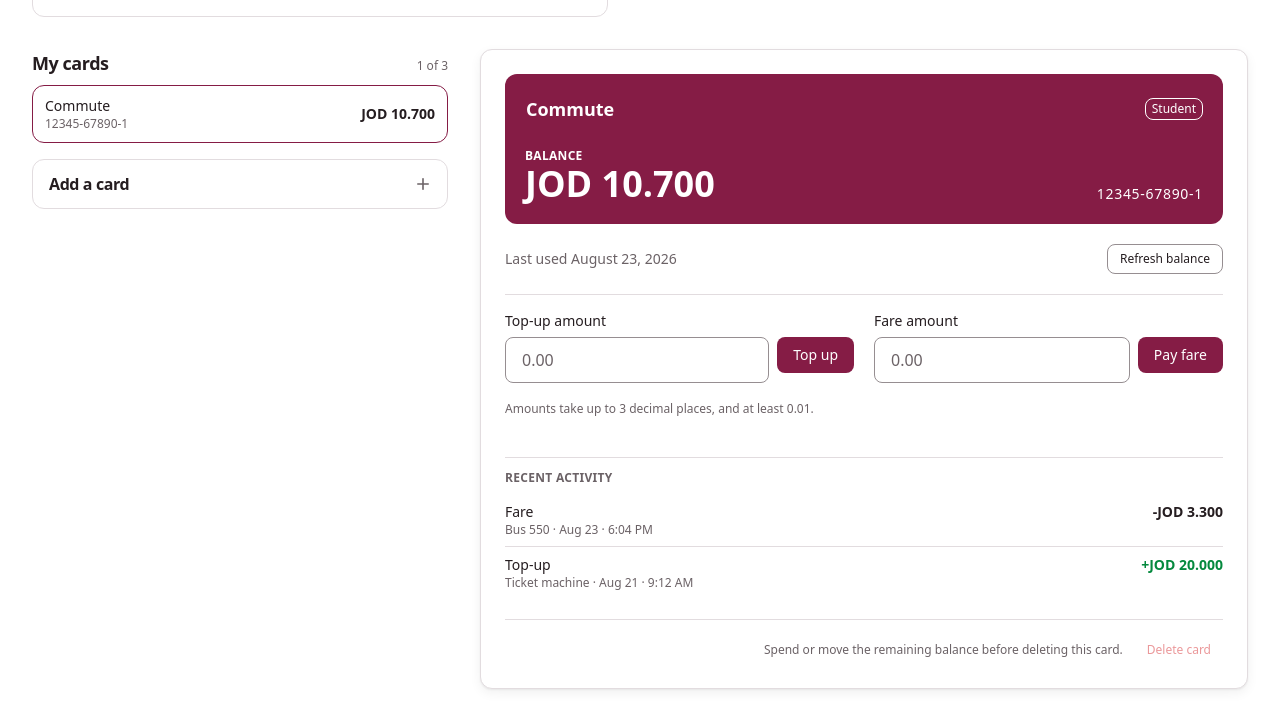
Test: the money › keeps the typed amount when the server refuses it
(page scrolled)
Step 1. Type "9999" into the field labelled "Fare amount" → (1002, 360), box [874, 337, 1130, 383]
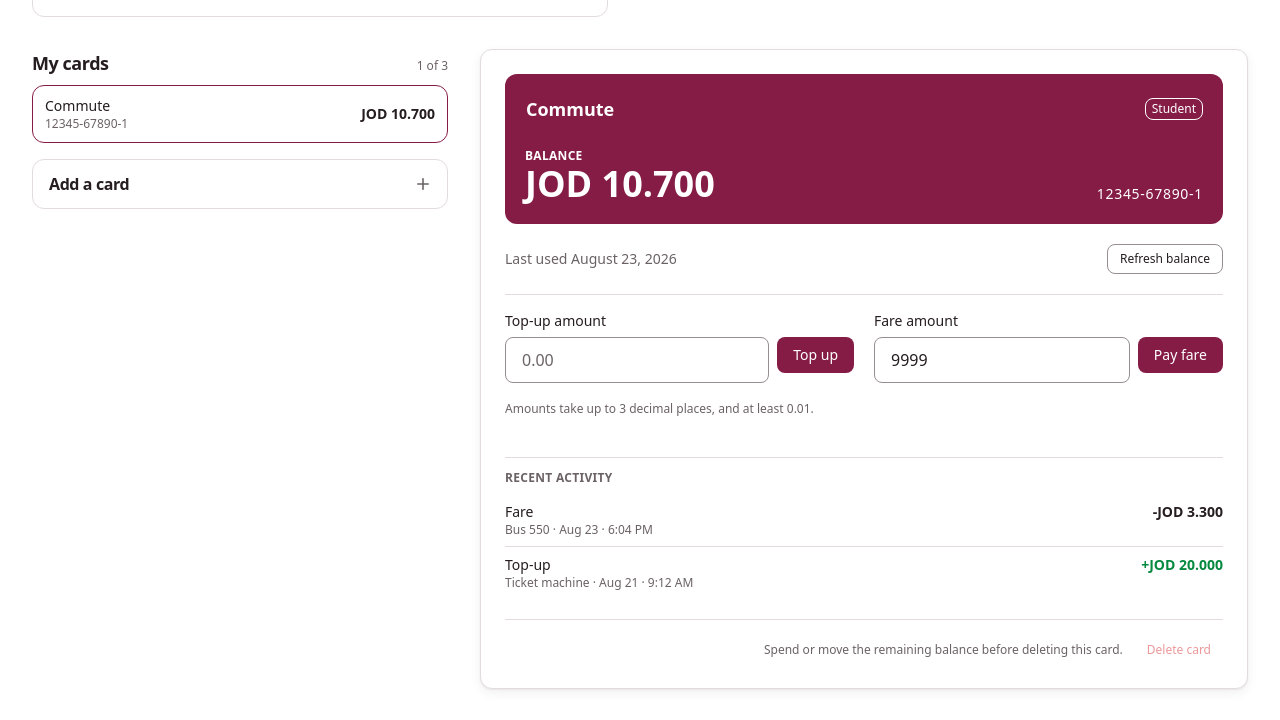
Step 2. Click the button "Pay fare" → (1180, 355), box [1138, 337, 1223, 373]
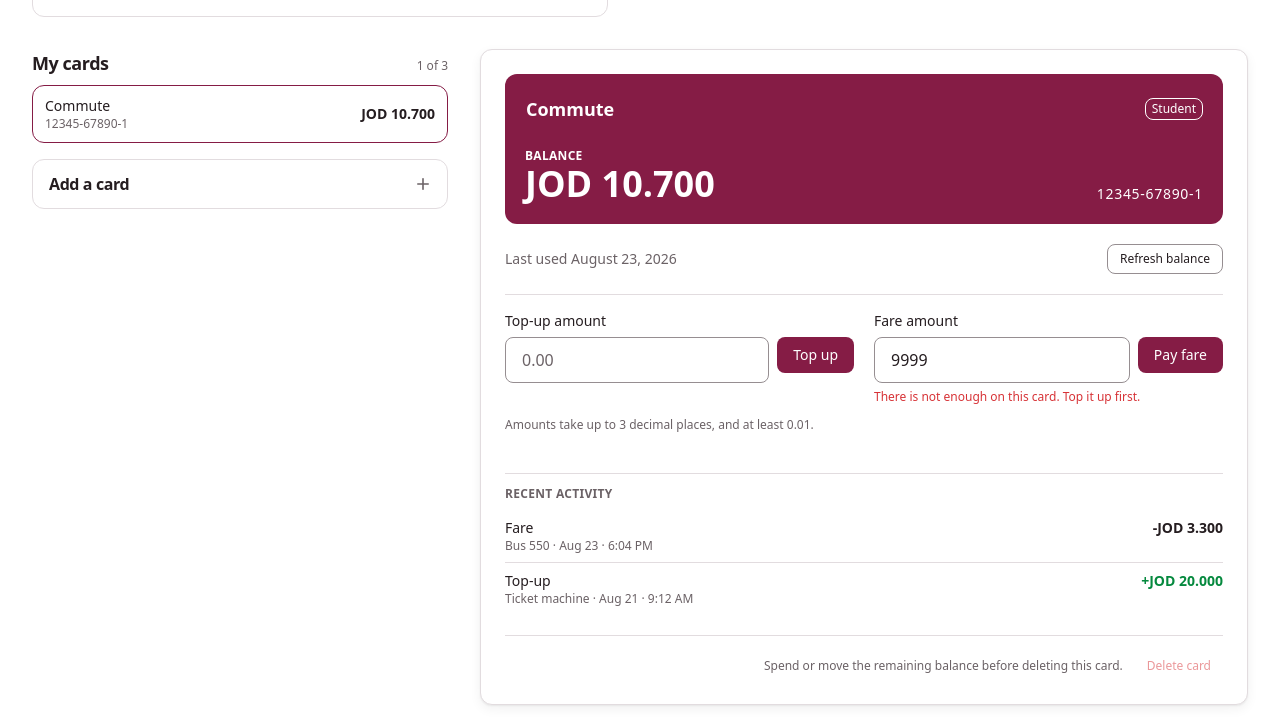
Expected: the text "There is not enough on this card. Top it up first." is shown, [874, 388, 1140, 405]
